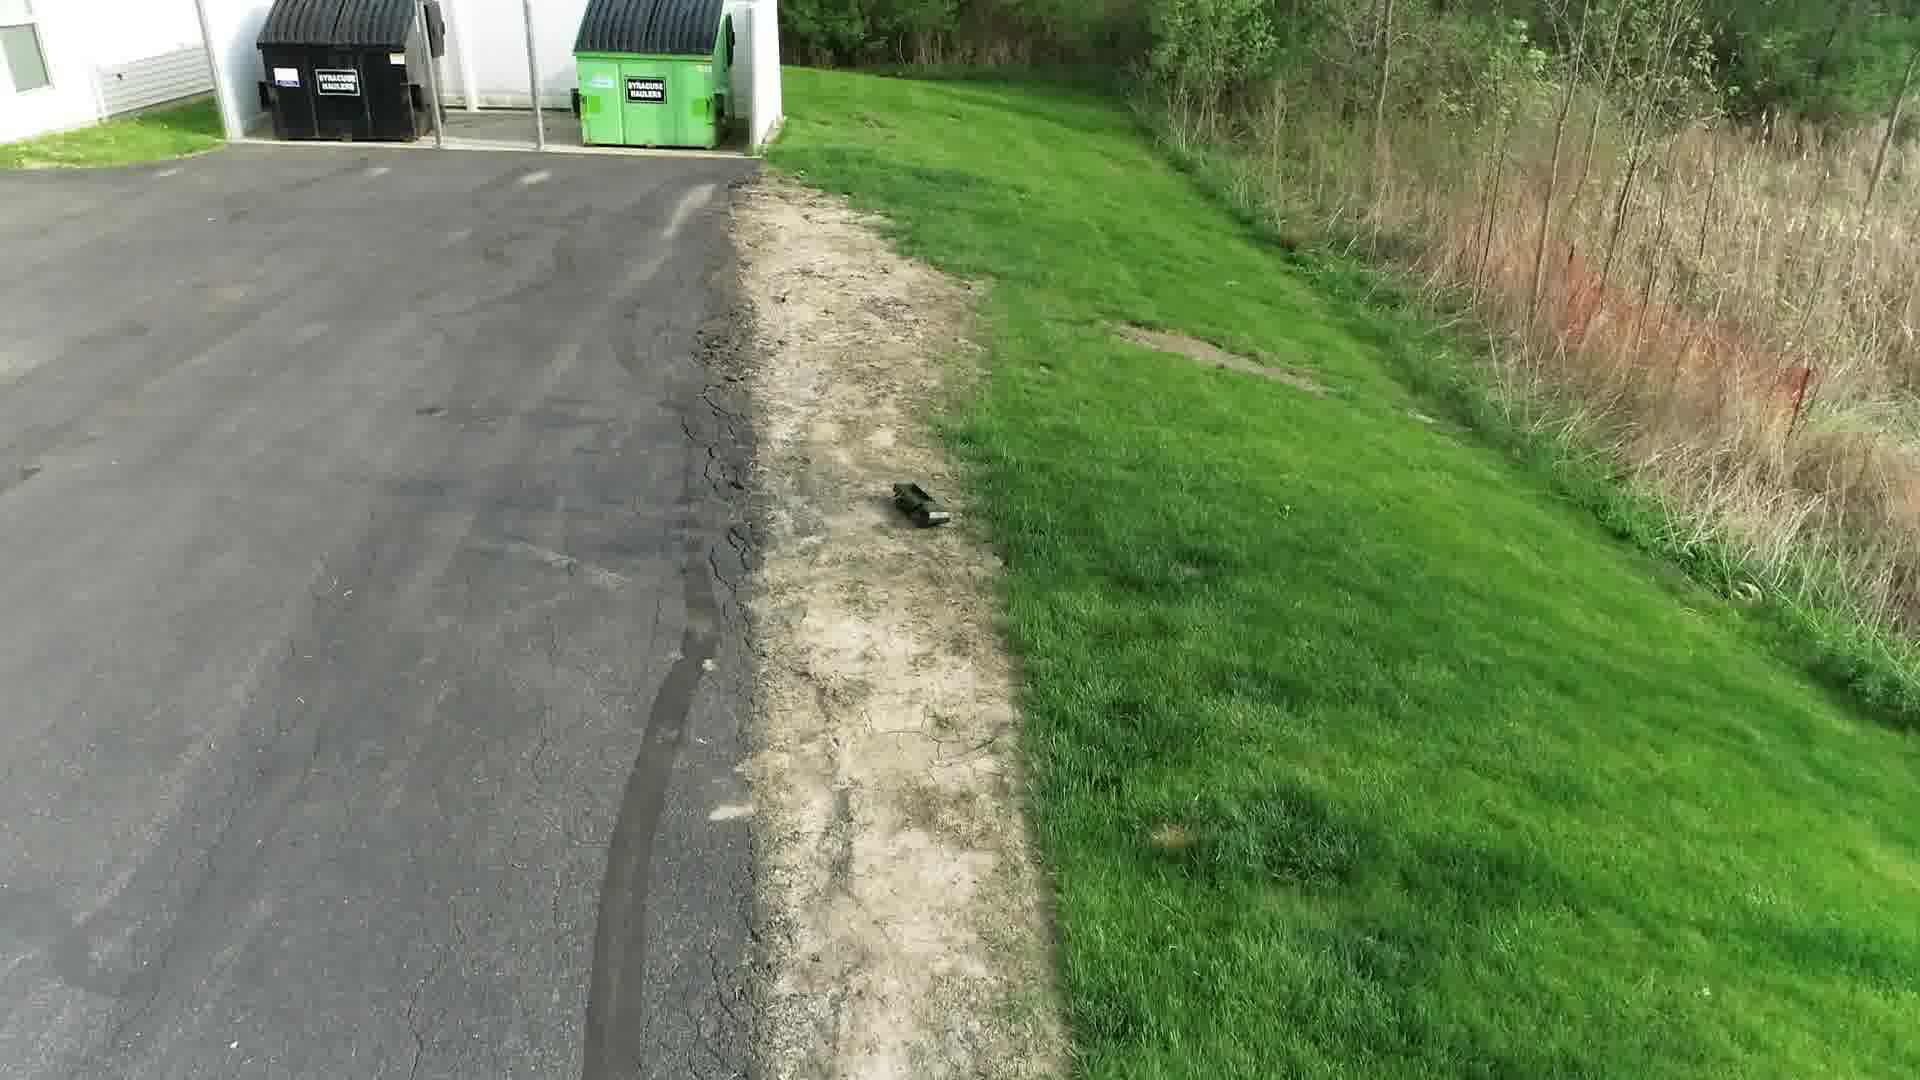transporter9: (890, 477, 953, 530)
